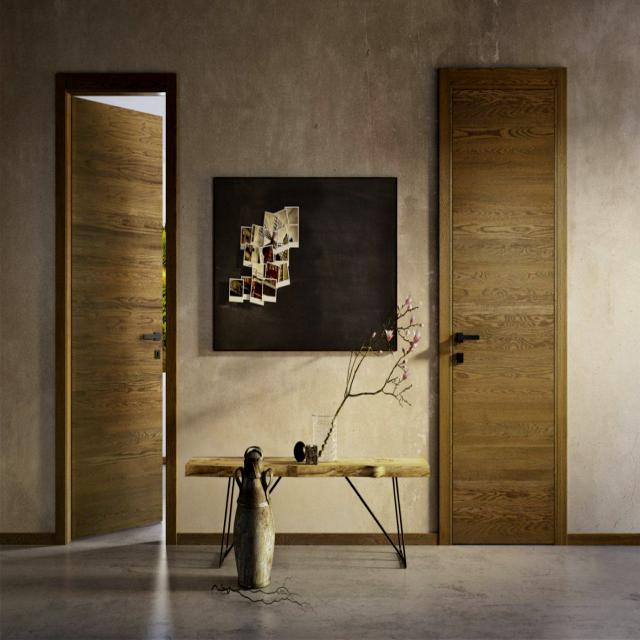door: (431, 57, 575, 559), (53, 62, 182, 563)
